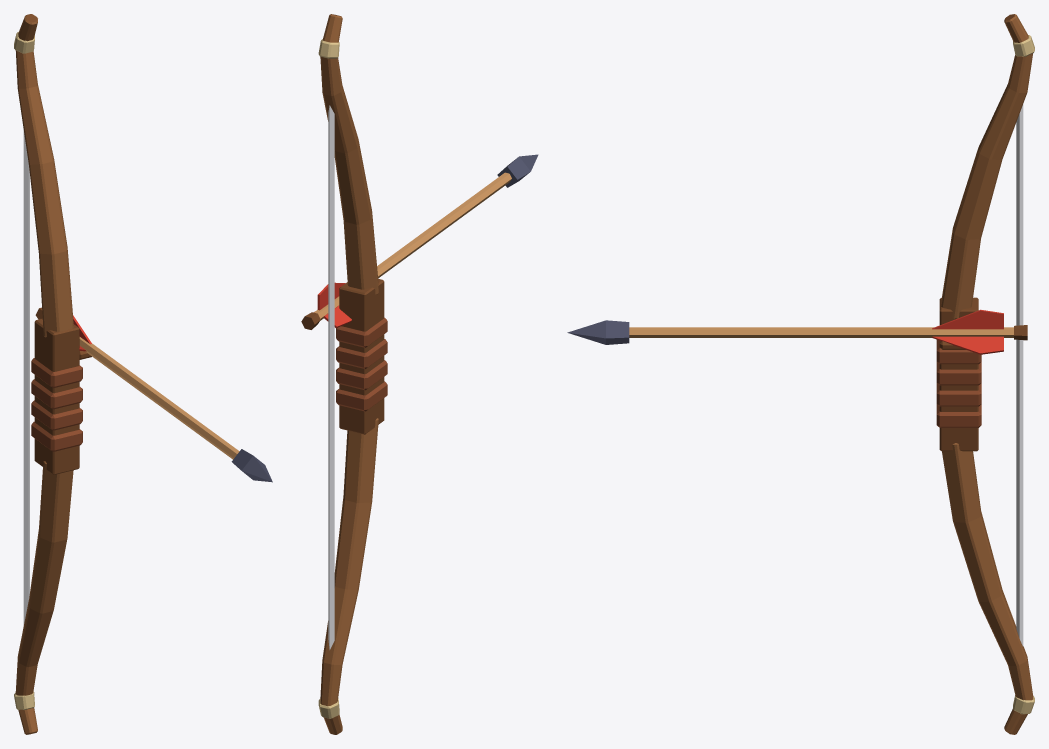
The model's file is myw_bow.glb.
The picture shows the model from 3 angles, left to right: view 1: azimuth 30°, elevation 25°; view 2: azimuth 150°, elevation 25°; view 3: azimuth 270°, elevation 25°; orthographic projection.
Parts seen in each view (by area): view 1: Bow, Grip, Arrow, String_Bottom, String_Top, TipWraps; view 2: Bow, Arrow, Grip, String_Bottom, String_Top, TipWraps; view 3: Bow, Arrow, Grip, String_Bottom, String_Top.
Part boxes in pixels (box(x1,y1,x2,y2)): Bow: box(15, 14, 79, 734); Grip: box(31, 351, 91, 451); Arrow: box(35, 307, 272, 482); String_Bottom: box(23, 320, 29, 625); String_Top: box(23, 130, 29, 322); TipWraps: box(14, 31, 34, 709); Bow: box(320, 14, 384, 734); Arrow: box(301, 154, 538, 329); Grip: box(336, 317, 387, 411); String_Bottom: box(328, 325, 334, 649); String_Top: box(328, 105, 334, 326); TipWraps: box(318, 39, 339, 718); Bow: box(939, 14, 1033, 734); Arrow: box(567, 309, 1027, 354); Grip: box(936, 340, 981, 427); String_Bottom: box(1016, 323, 1023, 646); String_Top: box(1016, 104, 1023, 324).
Bounding box in the file's own units: 0.3226 × 4.06 × 2.4.
